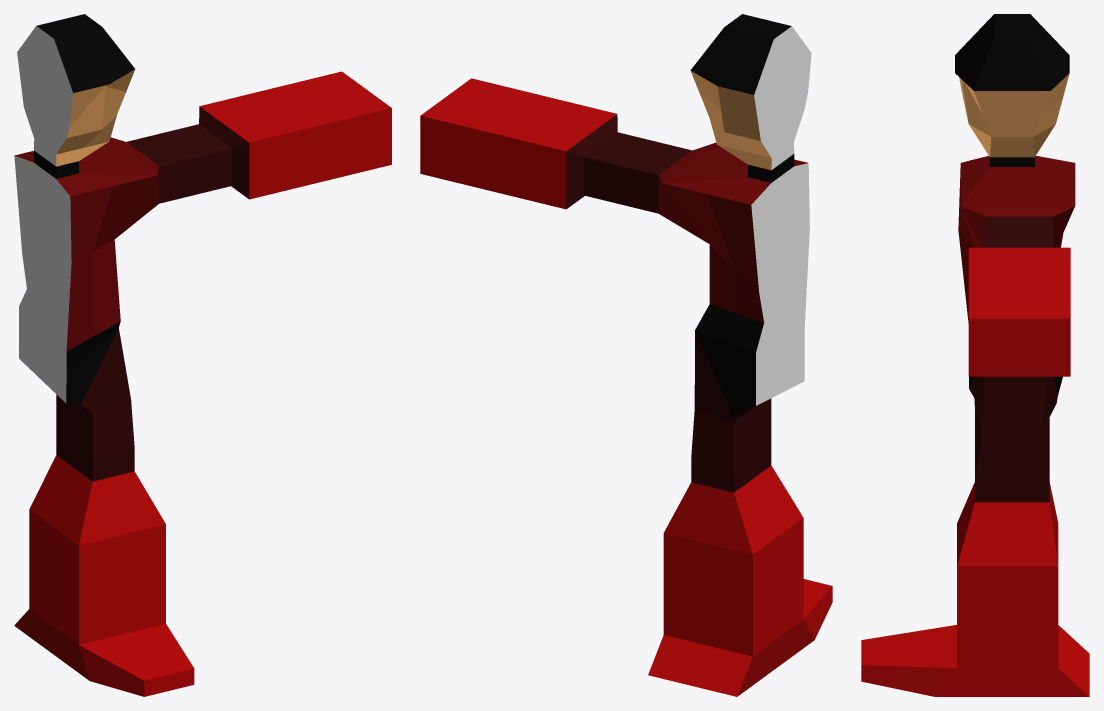
Rendered from character.gltf.
The picture shows the model from 3 angles, left to right: view 1: azimuth 30°, elevation 25°; view 2: azimuth 150°, elevation 25°; view 3: azimuth 270°, elevation 25°; orthographic projection. The views are drawn at different scales.
Parts seen in each view (by area): view 1: Cube; view 2: Cube; view 3: Cube.
Part boxes in pixels (left/top/right/bottom): Cube: left=14, top=14, right=391, bottom=696; Cube: left=420, top=14, right=832, bottom=696; Cube: left=861, top=14, right=1089, bottom=696.
Size of the model in its own units: 1.07 by 1.96 by 0.6359.
Materials: 1 (1 with a texture image).
